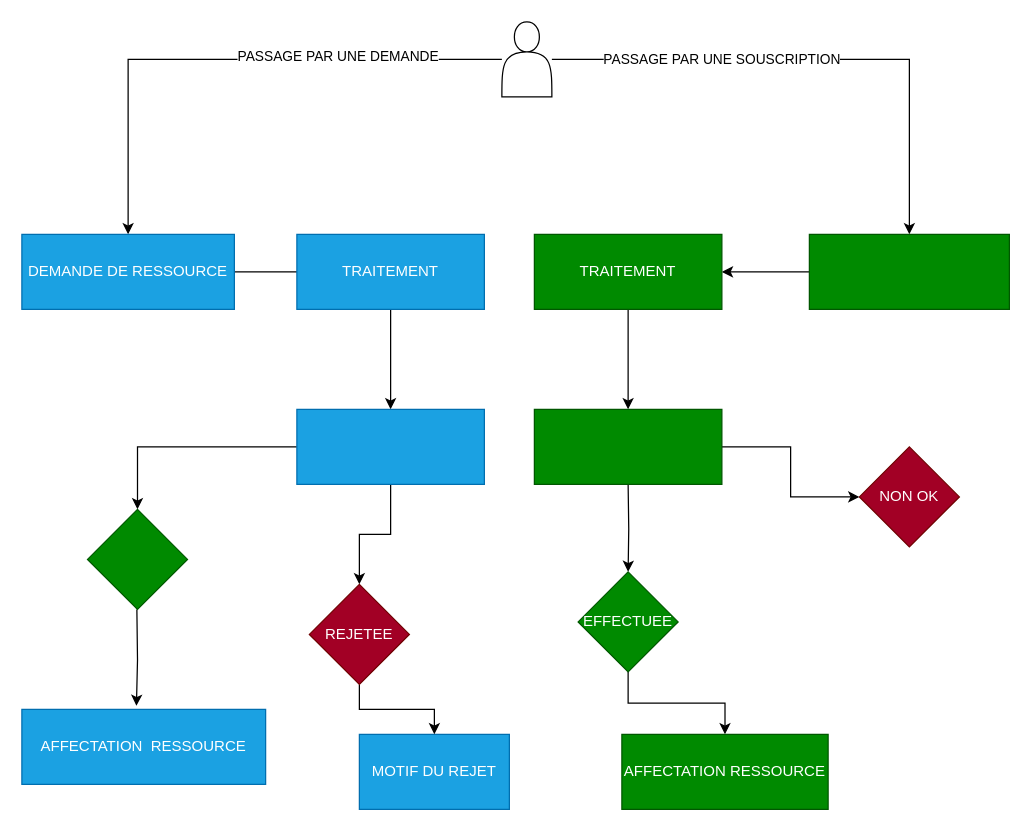
The diagram is 1031 pixels wide and 831 high, and some of its shapes have lost their labels. Each missing label, with the box of its shape:
ACCEPTEE: (86, 508, 188, 609)
ETAT DEMANDE: (296, 408, 484, 484)
PAIEMENT: (533, 408, 722, 484)
SOUSCRIPTION PACK: (808, 233, 1009, 309)
